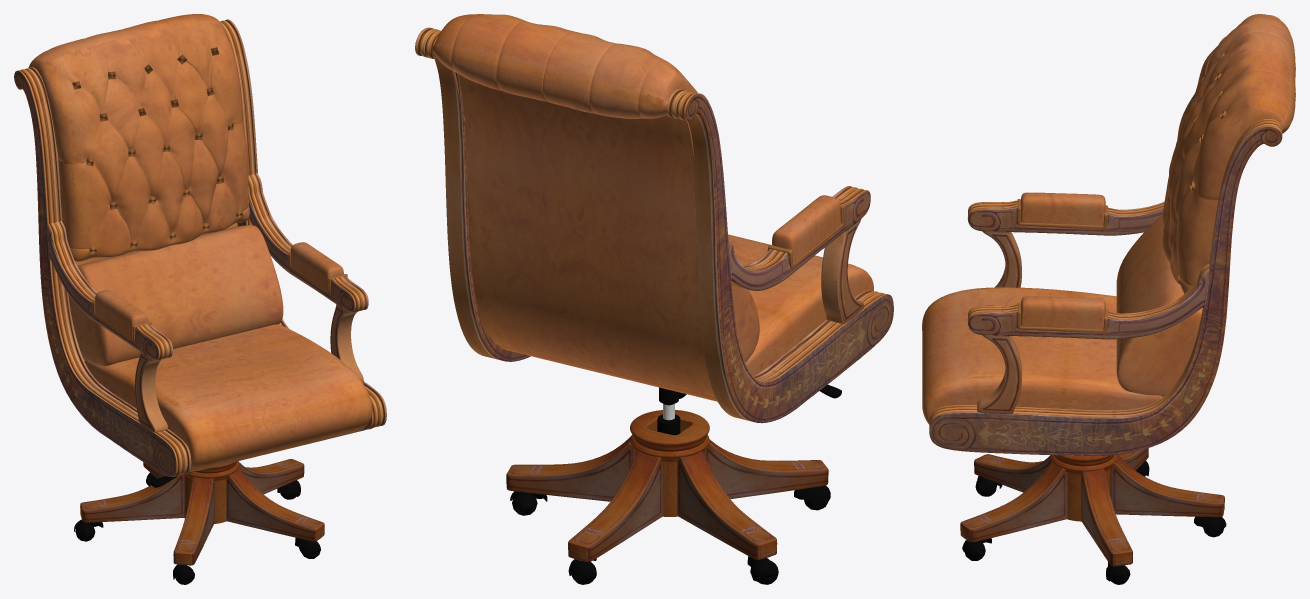
The model's file is office_chair.glb.
3 renders of one model, left to right at view 1: azimuth 30°, elevation 25°; view 2: azimuth 150°, elevation 25°; view 3: azimuth 270°, elevation 25°, orthographic. The views are drawn at different scales.
Parts seen in each view (by area): view 1: Desk01_Chair01_pr.059, Desk01_Chair01_pr.057, Desk01_Chair01_pr.058, Desk01_Chair01_pr.004, Desk01_Chair01_pr.003, Desk01_Chair01_pr.005, Desk01_Chair01_pr, Desk01_Chair01_pr.061, Desk01_Chair01_pr.062, Desk01_Chair01_prt, Desk01_Chair01_pr.006, Desk01_Chair01_pr.056 (+4 smaller); view 2: Desk01_Chair01_pr.053, Desk01_Chair01_pr.004, Desk01_Chair01_pr.059, Desk01_Chair01_pr.062, Desk01_Chair01_pr.057, Desk01_Chair01_pr, Desk01_Chair01_pr.001, Desk01_Chair01_pr.002, Desk01_Chair01_prt, Desk01_Chair01_pr.054, Desk01_Chair01_pr.005, Desk01_Chair01_pr.006 (+3 smaller); view 3: Desk01_Chair01_pr.062, Desk01_Chair01_pr.059, Desk01_Chair01_pr.057, Desk01_Chair01_pr.058, Desk01_Chair01_pr.061, Desk01_Chair01_pr.003, Desk01_Chair01_pr.001, Desk01_Chair01_pr.005, Desk01_Chair01_pr.002, Desk01_Chair01_pr.056, Desk01_Chair01_pr.007, Desk01_Chair01_pr.060 (+5 smaller).
Boxes of the visible parts, <box> form: Desk01_Chair01_pr.059: <box>28,14,249,261</box>; Desk01_Chair01_pr.057: <box>84,324,372,471</box>; Desk01_Chair01_pr.058: <box>68,225,283,366</box>; Desk01_Chair01_pr.004: <box>14,67,191,476</box>; Desk01_Chair01_pr.003: <box>226,467,324,541</box>; Desk01_Chair01_pr.005: <box>47,221,172,360</box>; Desk01_Chair01_pr: <box>80,474,184,522</box>; Desk01_Chair01_pr.061: <box>248,173,368,312</box>; Desk01_Chair01_pr.062: <box>220,19,386,429</box>; Desk01_Chair01_prt: <box>173,476,214,565</box>; Desk01_Chair01_pr.006: <box>134,352,168,432</box>; Desk01_Chair01_pr.056: <box>290,242,343,290</box>; Desk01_Chair01_pr.053: <box>458,74,717,401</box>; Desk01_Chair01_pr.004: <box>666,89,893,423</box>; Desk01_Chair01_pr.059: <box>432,14,697,159</box>; Desk01_Chair01_pr.062: <box>415,27,530,361</box>; Desk01_Chair01_pr.057: <box>728,234,873,375</box>; Desk01_Chair01_pr: <box>677,451,777,559</box>; Desk01_Chair01_pr.001: <box>568,451,663,561</box>; Desk01_Chair01_pr.002: <box>506,436,635,501</box>; Desk01_Chair01_prt: <box>705,439,828,498</box>; Desk01_Chair01_pr.054: <box>630,410,709,516</box>; Desk01_Chair01_pr.005: <box>728,186,870,290</box>; Desk01_Chair01_pr.006: <box>821,219,864,323</box>; Desk01_Chair01_pr.062: <box>929,118,1282,455</box>; Desk01_Chair01_pr.059: <box>1162,14,1295,293</box>; Desk01_Chair01_pr.057: <box>922,287,1162,424</box>; Desk01_Chair01_pr.058: <box>1116,215,1202,396</box>; Desk01_Chair01_pr.061: <box>967,263,1209,339</box>; Desk01_Chair01_pr.003: <box>960,461,1067,542</box>; Desk01_Chair01_pr.001: <box>1110,455,1224,517</box>; Desk01_Chair01_pr.005: <box>967,200,1164,235</box>; Desk01_Chair01_pr.002: <box>1081,468,1132,566</box>; Desk01_Chair01_pr.056: <box>1020,296,1105,329</box>; Desk01_Chair01_pr.007: <box>1020,192,1105,225</box>; Desk01_Chair01_pr.060: <box>977,335,1021,413</box>.
Size of the model in its own units: 0.5289 by 1.03 by 0.7224.
Materials: 20 (11 with a texture image).
